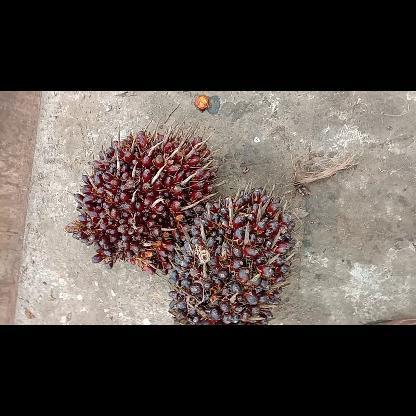Kurang masak: (169, 186, 295, 324)
TBS masak: (64, 128, 214, 272)
